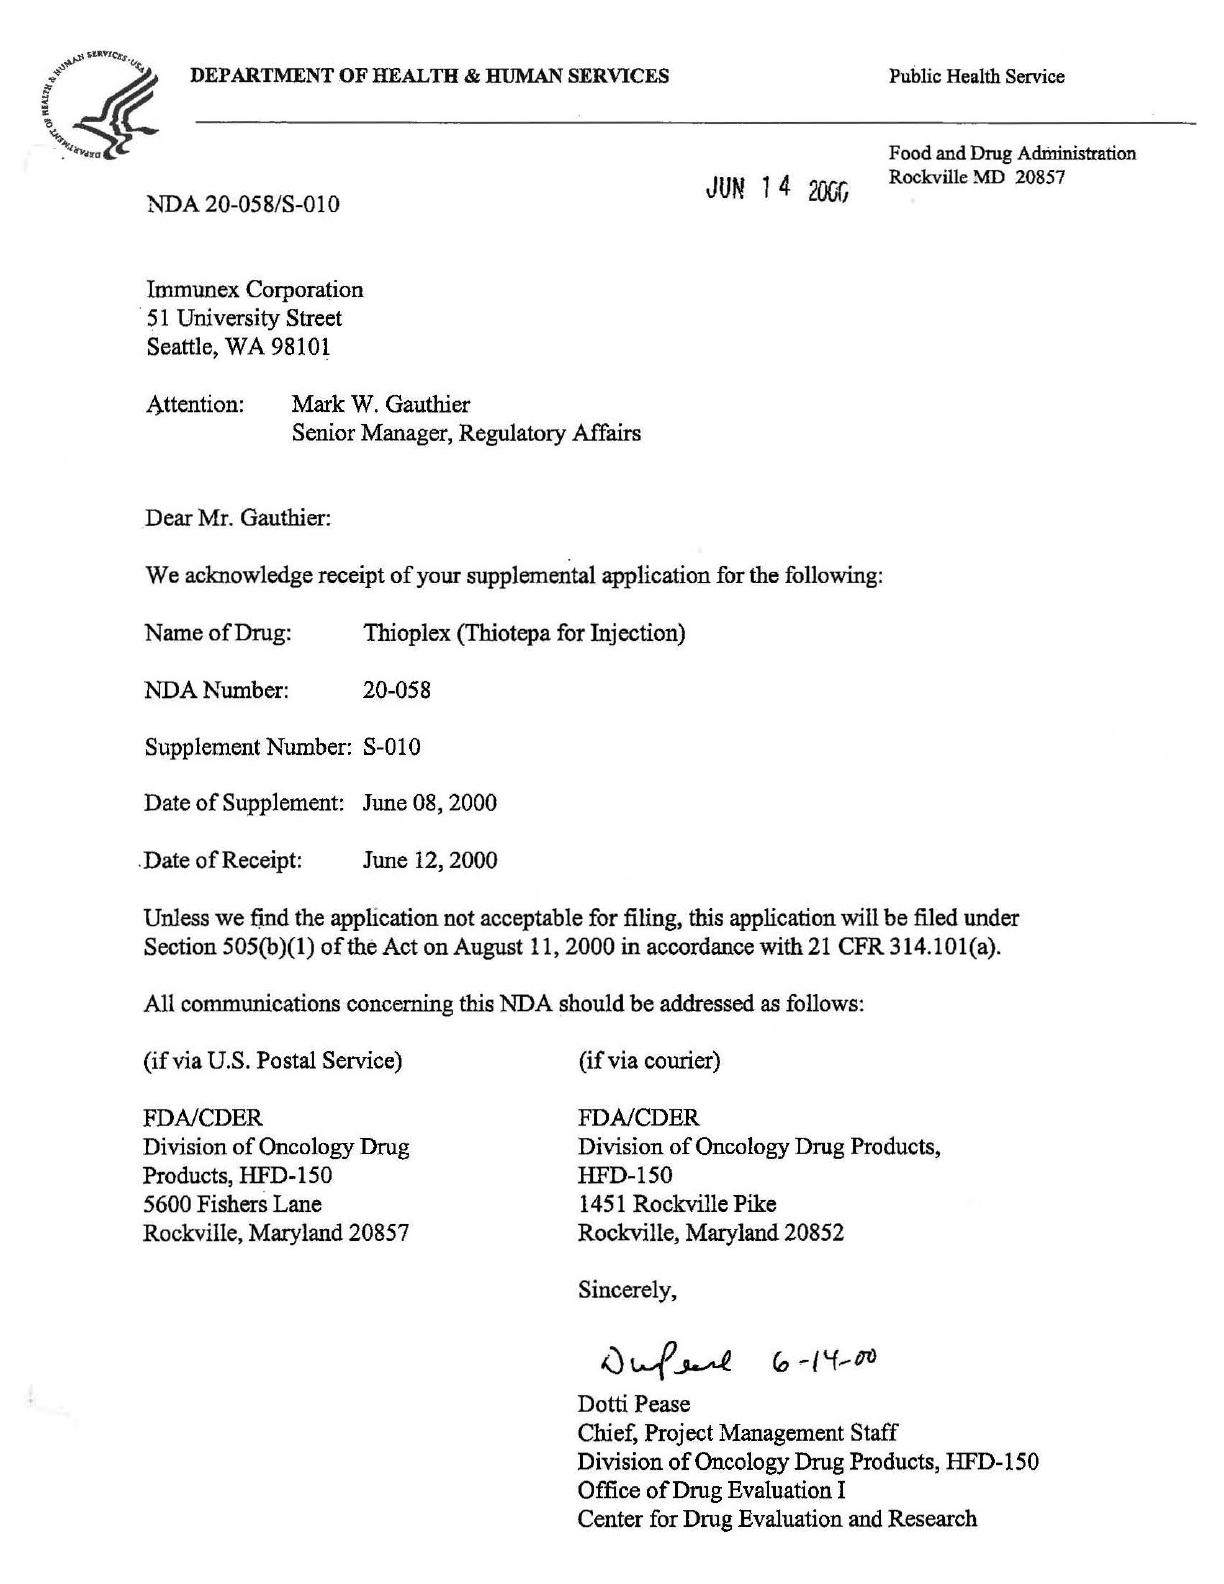nolines: (139, 1045, 946, 1260), (141, 618, 685, 877)
